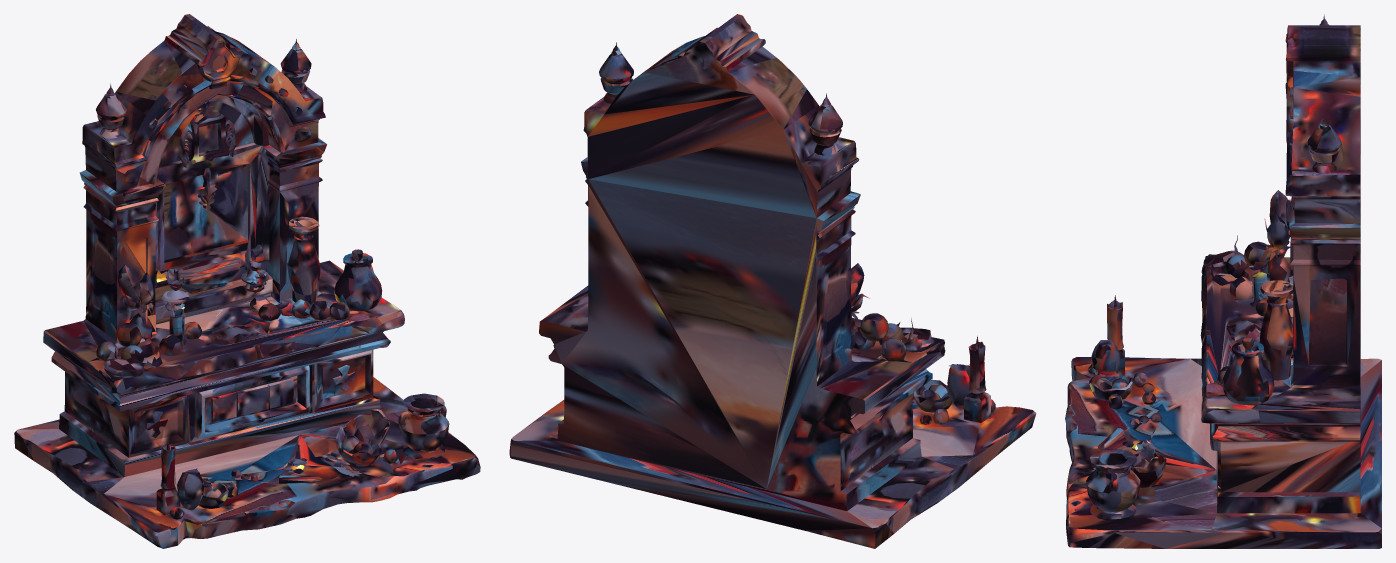
File: SacrificialAltar.fbx
3 renders of one model, left to right at view 1: azimuth 30°, elevation 25°; view 2: azimuth 150°, elevation 25°; view 3: azimuth 270°, elevation 25°, orthographic. The views are drawn at different scales.
Parts seen in each view (by area): view 1: mesh_15; view 2: mesh_15; view 3: mesh_15.
Boxes of the visible parts, box(x1,y1,x2,y2) form: mesh_15: box(14, 14, 480, 548); mesh_15: box(509, 14, 1036, 548); mesh_15: box(1065, 14, 1381, 548).
Size of the model in its own units: 70.06 by 82.65 by 53.99.
